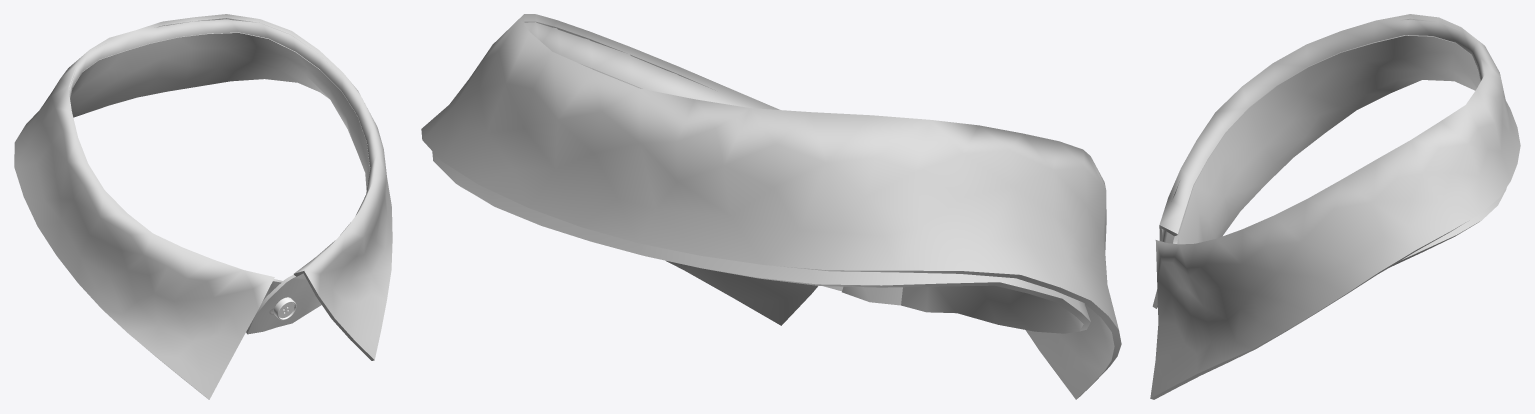
Rendered from collar-1.glb.
The picture shows the model from 3 angles, left to right: view 1: azimuth 30°, elevation 25°; view 2: azimuth 150°, elevation 25°; view 3: azimuth 270°, elevation 25°; orthographic projection. The views are drawn at different scales.
Parts seen in each view (by area): view 1: Collar_Node, Collar_Stand_Node, MatShape_74969_Node; view 2: Collar_Node, Collar_Stand_Node; view 3: Collar_Node, Collar_Stand_Node.
Boxes of the visible parts, x1,y1,x2,y2 form: Collar_Node: [14, 14, 392, 399]; Collar_Stand_Node: [70, 32, 370, 334]; MatShape_74969_Node: [274, 297, 296, 320]; Collar_Node: [421, 14, 1121, 399]; Collar_Stand_Node: [432, 67, 1090, 333]; Collar_Node: [1150, 14, 1520, 399]; Collar_Stand_Node: [1173, 35, 1506, 272].
Size of the model in its own units: 0.1686 by 0.1183 by 0.137.
3 materials, 1 textured.
